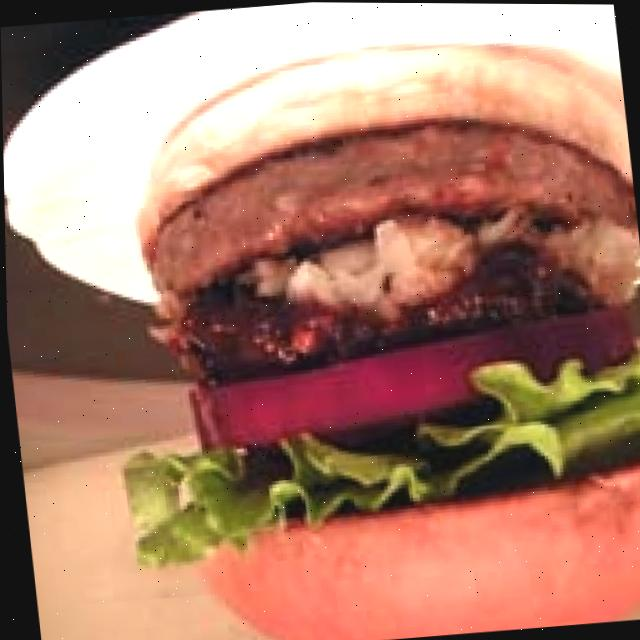汉堡快餐: (98, 23, 640, 640)
